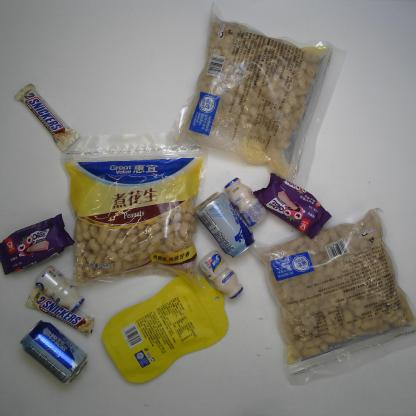Alcohol: (19, 318, 88, 385), (195, 189, 257, 259)
Chocolate: (12, 81, 80, 155), (25, 285, 95, 337)
Dessert: (252, 172, 333, 240), (1, 213, 76, 277)
Dried Food: (161, 0, 342, 192), (249, 208, 416, 387), (57, 131, 210, 290)
Dried Fruit: (101, 274, 232, 386)
Milk: (196, 249, 244, 302), (34, 265, 84, 313), (224, 175, 268, 227)
